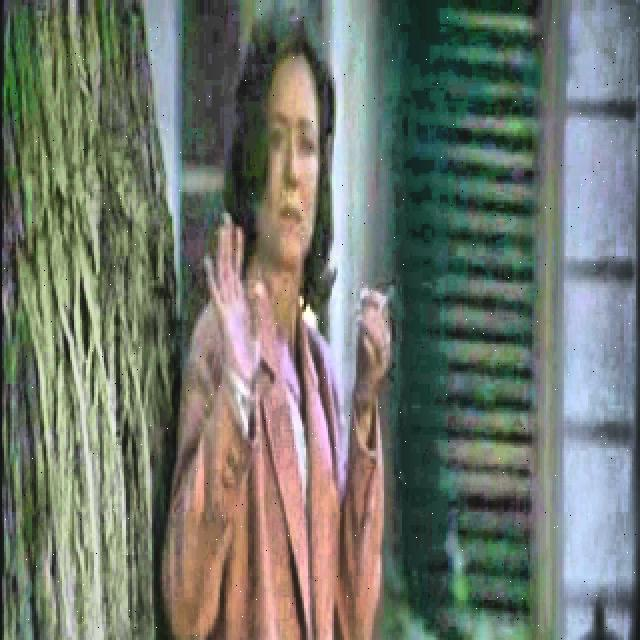T: (149, 0, 401, 640)
